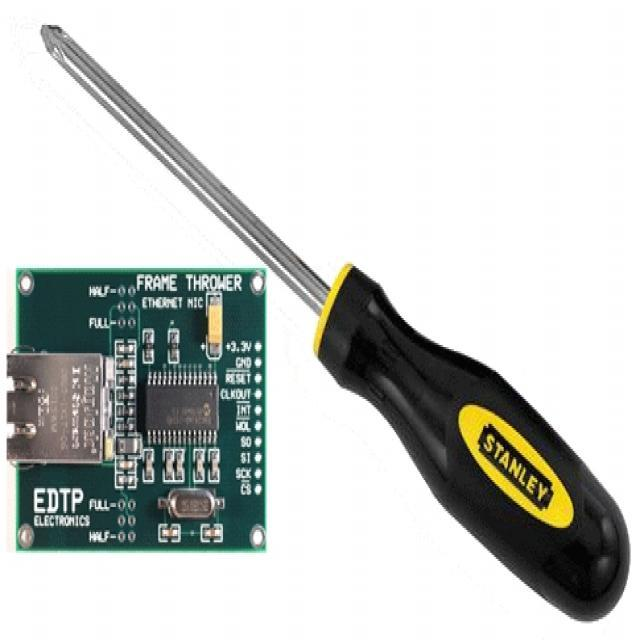screwdriver: (40, 8, 628, 630)
